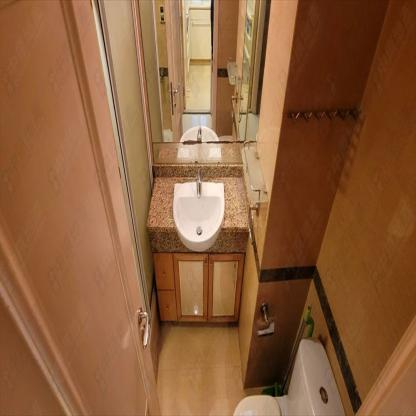Faucet: (193, 170, 206, 196), (196, 127, 205, 142)
Toilet: (230, 338, 345, 414)
Toilet Sink: (171, 179, 224, 254)
